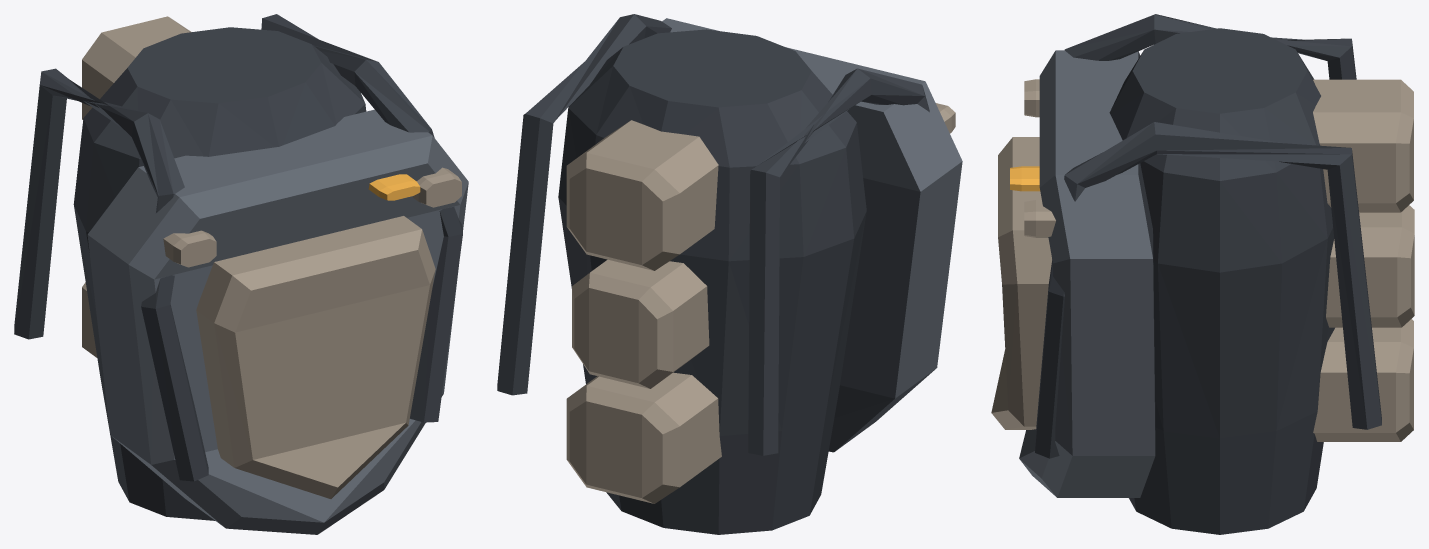
File: torso_heavy.glb
The picture shows the model from 3 angles, left to right: view 1: azimuth 30°, elevation 25°; view 2: azimuth 150°, elevation 25°; view 3: azimuth 270°, elevation 25°; orthographic projection. The views are drawn at different scales.
Visible parts, largest first — view 1: torso_heavy; view 2: torso_heavy; view 3: torso_heavy.
Boxes of the visible parts, x1,y1,x2,y2 form: torso_heavy: (14,14,468,534); torso_heavy: (497,14,962,534); torso_heavy: (991,14,1414,534).
Bounding box in the file's own units: 0.86 × 1.01 × 0.9194.
